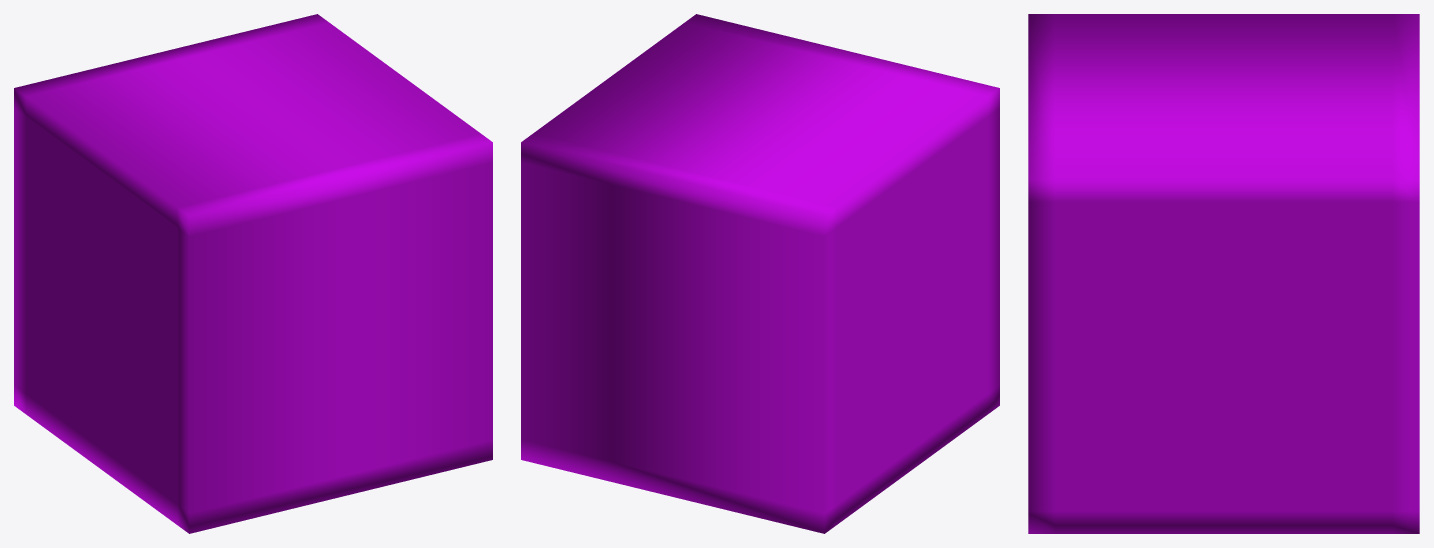
3 renders of one model, left to right at view 1: azimuth 30°, elevation 25°; view 2: azimuth 150°, elevation 25°; view 3: azimuth 270°, elevation 25°, orthographic. The views are drawn at different scales.
Visible parts, largest first — view 1: Cube; view 2: Cube; view 3: Cube.
Boxes of the visible parts, bbox=[...] form: Cube: bbox=[14, 14, 492, 533]; Cube: bbox=[521, 14, 999, 533]; Cube: bbox=[1028, 14, 1419, 533].
Size of the model in its own units: 2 by 2 by 2.
